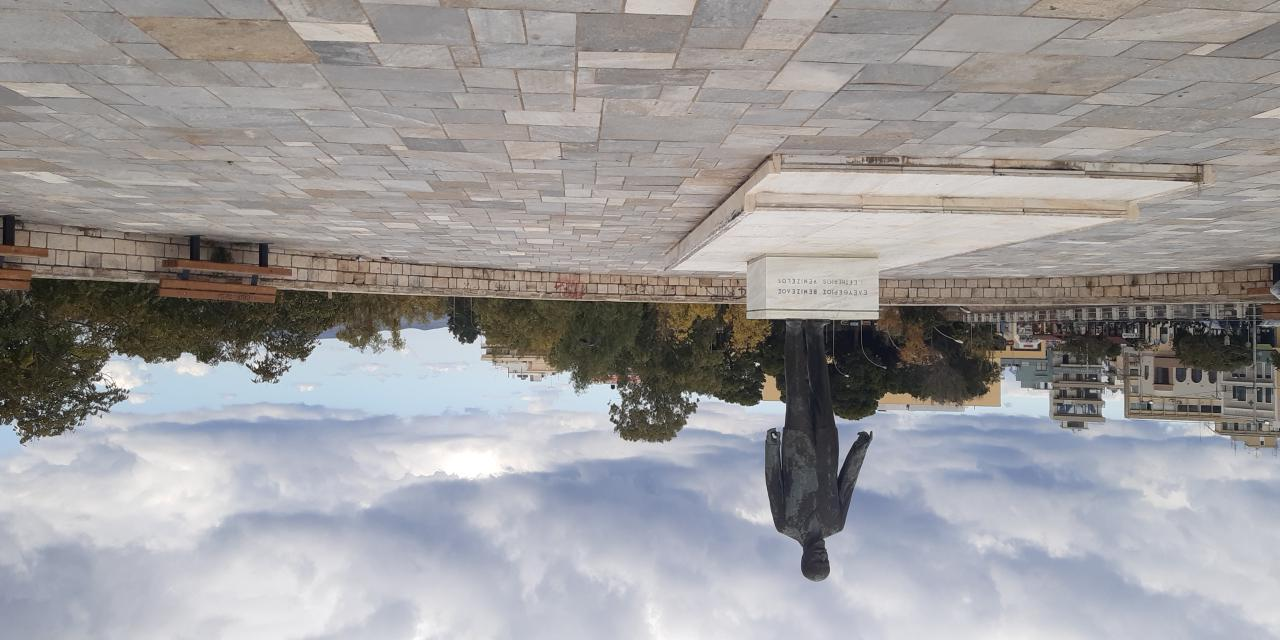Venizelos: (762, 319, 871, 583)
